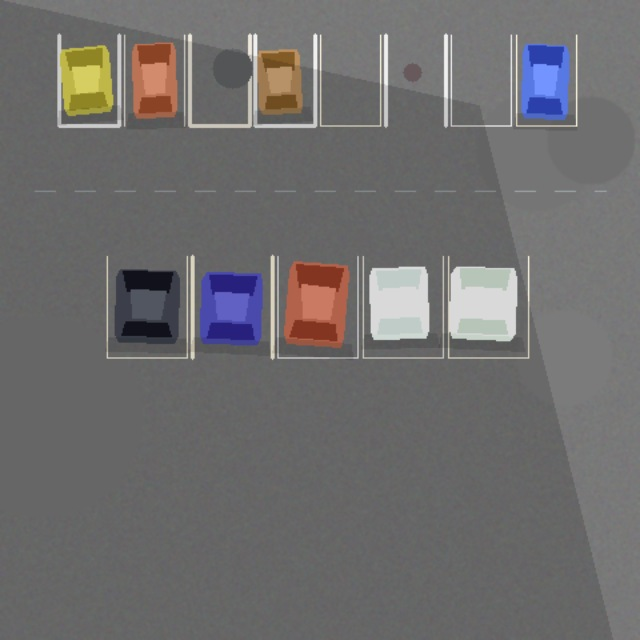space-empty: (189, 35, 249, 125), (320, 35, 380, 125), (385, 35, 445, 125), (451, 35, 511, 125)
space-occupied: (107, 256, 187, 357), (192, 256, 272, 357), (277, 256, 357, 357), (363, 256, 443, 357), (448, 256, 528, 357), (59, 35, 119, 125), (124, 35, 184, 125), (255, 35, 315, 125), (516, 35, 576, 125)
